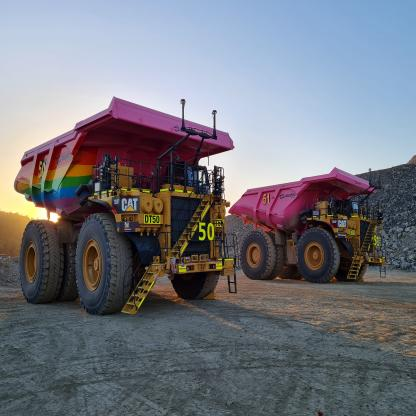dump_truck: (15, 98, 249, 317), (244, 164, 392, 293)
